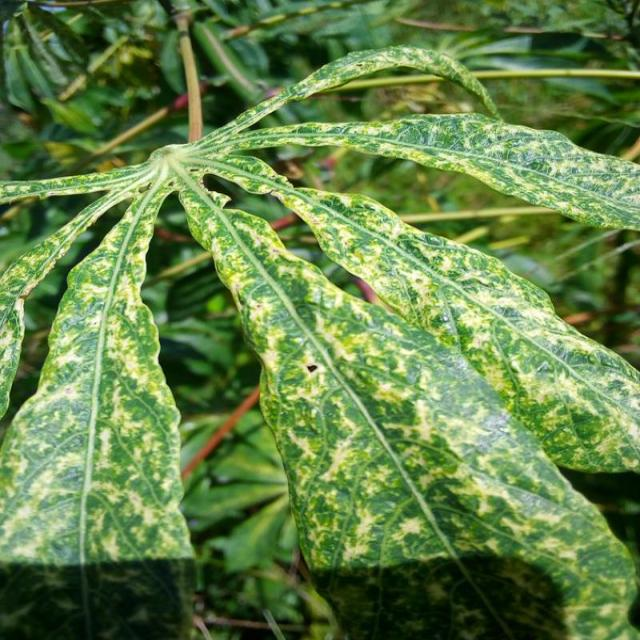cassava leaf: (0, 41, 638, 637), (0, 174, 197, 637)
